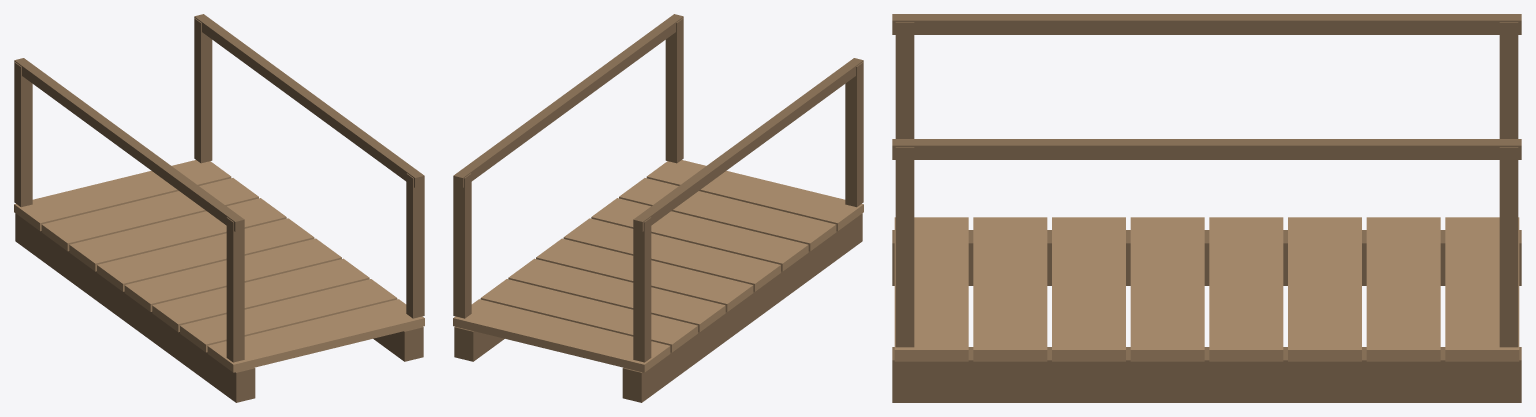
File: prop-bridge-wood-plank.fbx
The picture shows the model from 3 angles, left to right: view 1: azimuth 30°, elevation 25°; view 2: azimuth 150°, elevation 25°; view 3: azimuth 270°, elevation 25°; orthographic projection. The views are drawn at different scales.
Parts seen in each view (by area): view 1: prop-bridge-wood-plank; view 2: prop-bridge-wood-plank; view 3: prop-bridge-wood-plank.
Part boxes in pixels (x1,y1,x2,y2): prop-bridge-wood-plank: (14, 14, 424, 402); prop-bridge-wood-plank: (453, 14, 863, 402); prop-bridge-wood-plank: (892, 14, 1521, 402).
Bounding box in the file's own units: 100 × 90.5 × 200.
